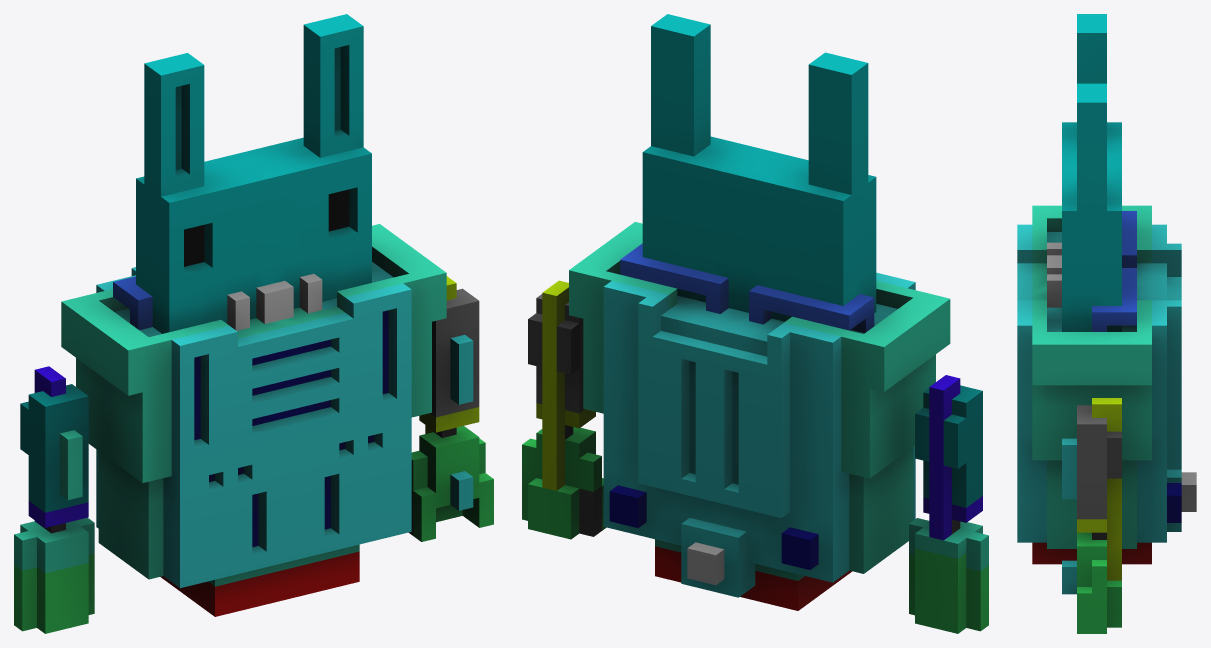
The model's file is rabitbotretopo1.fbx.
3 renders of one model, left to right at view 1: azimuth 30°, elevation 25°; view 2: azimuth 150°, elevation 25°; view 3: azimuth 270°, elevation 25°, orthographic. The views are drawn at different scales.
Parts seen in each view (by area): view 1: RoboRabbit.bake; view 2: RoboRabbit.bake; view 3: RoboRabbit.bake.
Boxes of the visible parts, x1,y1,x2,y2 form: RoboRabbit.bake: (14,14,493,633); RoboRabbit.bake: (522,14,988,633); RoboRabbit.bake: (1017,14,1196,633).
Size of the model in its own units: 320 by 350 by 120.
